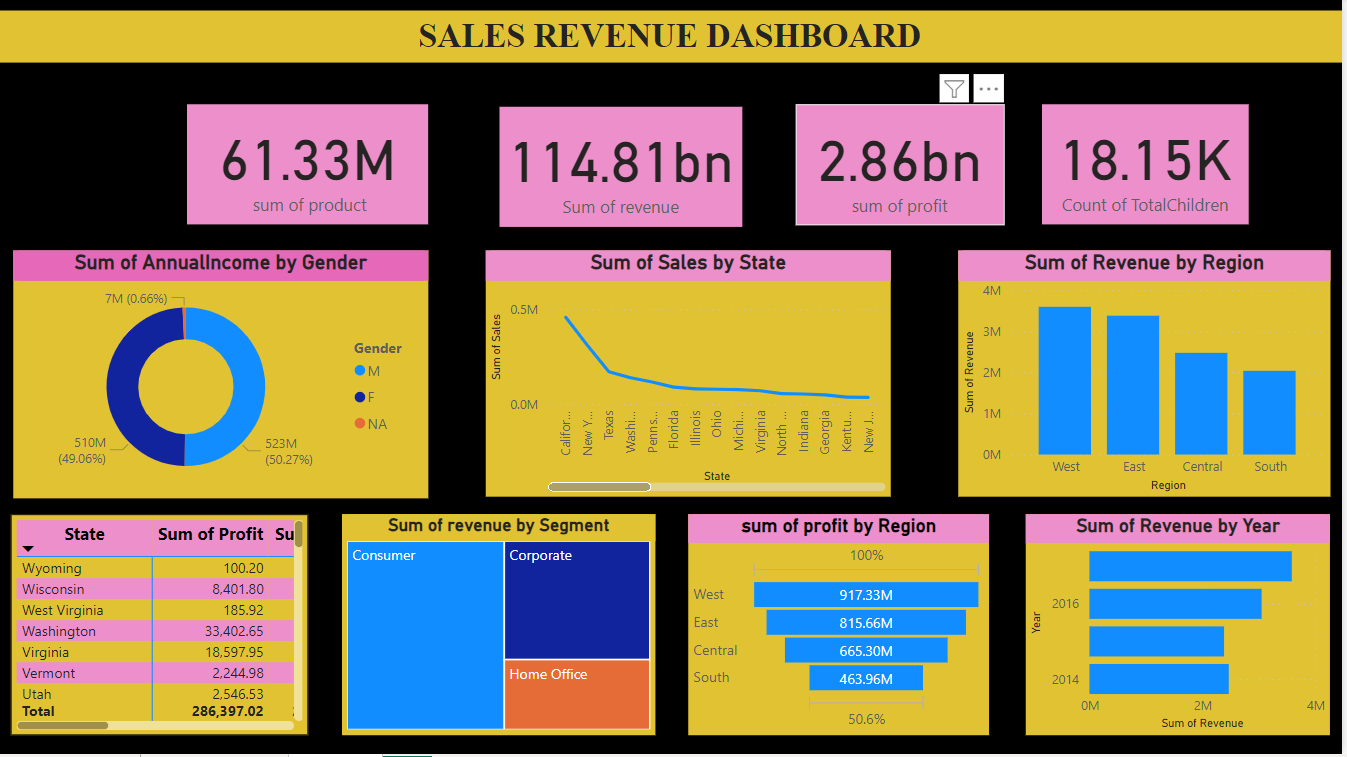

What the dashboard file says about the page in this screenshot:
{"tool":"powerbi","page":{"name":"Page 1","canvas":[1280,720],"ordinal":1},"visuals":[{"type":"card","fields":{"Values":["Sum(Products.sum of product)"]},"box":[181.2,101.5,229.6,114],"z":0},{"type":"card","fields":{"Values":["Sum(Sales 2.Sum of revenue)"]},"box":[477.9,103.1,231.1,114],"z":1000},{"type":"card","fields":{"Values":["Sum(Sales 2.sum of profit)"]},"box":[760.6,101.5,198.4,115.6],"z":2000},{"type":"card","fields":{"Values":["CountNonNull(Customers.TotalChildren)"]},"box":[994.9,101.5,196.8,114],"z":3000},{"type":"lineChart","fields":{"Y":["Sum(Sales 2.Sales)"],"Category":["Sales 2.State"]},"box":[465.4,240.5,385.8,234.3],"z":4000},{"type":"donutChart","fields":{"Category":["Customers.Gender"],"Y":["Sum(Customers.AnnualIncome)"]},"box":[15.6,240.5,395.1,235.8],"z":5000},{"type":"pivotTable","fields":{"Values":["Sum(Sales 2.Profit)","Sum(Sales 2.Sales)","Sum(Sales 2.Sum of revenue)"],"Rows":["Sales 2.State"]},"box":[13.6,491.5,283.1,210.2],"z":6000},{"type":"clusteredColumnChart","fields":{"Category":["Sales 2.Region"],"Y":["Sum(Sales 2.Revenue)"]},"box":[915.2,240.5,354.5,234.3],"z":7000},{"type":"treemap","title":"Sum of revenue by Segment","fields":{"Values":["Sum(Sales 2.Sum of revenue)"],"Group":["Sales 2.Segment"]},"box":[328.8,491.5,298.3,210.2],"z":8000},{"type":"funnel","title":" sum of profit by Region","fields":{"Y":["Sum(Sales 2.sum of profit)"],"Category":["Sales 2.Region"]},"box":[657.6,491.5,286.4,210.2],"z":9000},{"type":"clusteredBarChart","fields":{"Category":["Sales 2.Order Date.Variation.Date Hierarchy.Year","Sales 2.Order Date.Variation.Date Hierarchy.Quarter","Sales 2.Order Date.Variation.Date Hierarchy.Month","Sales 2.Order Date.Variation.Date Hierarchy.Day"],"Y":["Sum(Sales 2.Revenue)"]},"box":[979.7,491.5,289.8,210.2],"z":10000},{"type":"textbox","box":[0,12.5,1280.7,50],"z":11000}]}

Visuals, with their boxes in screenshot pixels (x1, y1, x2, y2), scaled from the page's 1280x720 canvas onto the 1347x757 screenshot:
card - Sum(Products.sum of product): x1=191 y1=107 x2=432 y2=227
card - Sum(Sales 2.Sum of revenue): x1=503 y1=108 x2=746 y2=228
card - Sum(Sales 2.sum of profit): x1=800 y1=107 x2=1009 y2=228
card - CountNonNull(Customers.TotalChildren): x1=1047 y1=107 x2=1254 y2=227
lineChart - Sum(Sales 2.Sales) x Sales 2.State: x1=490 y1=253 x2=896 y2=499
donutChart - Customers.Gender x Sum(Customers.AnnualIncome): x1=16 y1=253 x2=432 y2=501
pivotTable - Sum(Sales 2.Profit) x Sum(Sales 2.Sales): x1=14 y1=517 x2=312 y2=738
clusteredColumnChart - Sales 2.Region x Sum(Sales 2.Revenue): x1=963 y1=253 x2=1336 y2=499
"Sum of revenue by Segment" treemap: x1=346 y1=517 x2=660 y2=738
" sum of profit by Region" funnel: x1=692 y1=517 x2=993 y2=738
clusteredBarChart - Sales 2.Order Date.Variation.Date Hierarchy.Year x Sales 2.Order Date.Variation.Date Hierarchy.Quarter: x1=1031 y1=517 x2=1336 y2=738
textbox: x1=0 y1=13 x2=1346 y2=66
